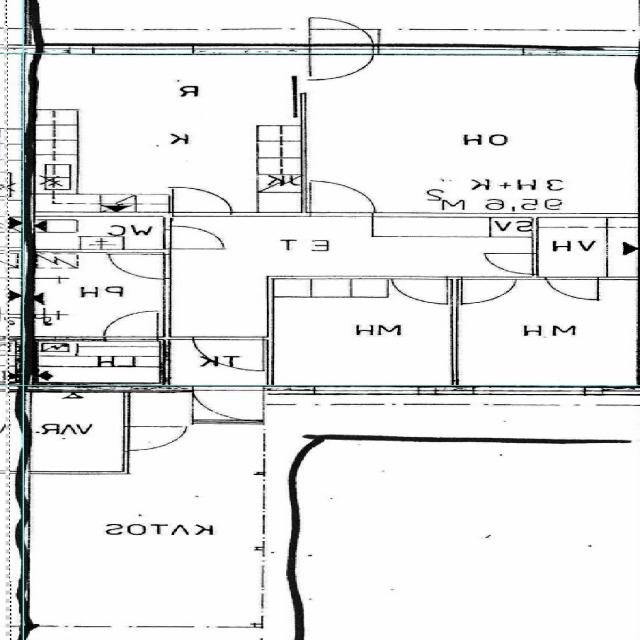door: (193, 386, 263, 424), (308, 16, 374, 54), (308, 46, 374, 83), (194, 337, 263, 371), (310, 184, 372, 216), (172, 186, 232, 217), (104, 312, 159, 341), (392, 276, 448, 304), (462, 277, 516, 304), (111, 254, 171, 278), (546, 277, 598, 303), (123, 427, 180, 450), (164, 226, 220, 249), (486, 253, 539, 274)
